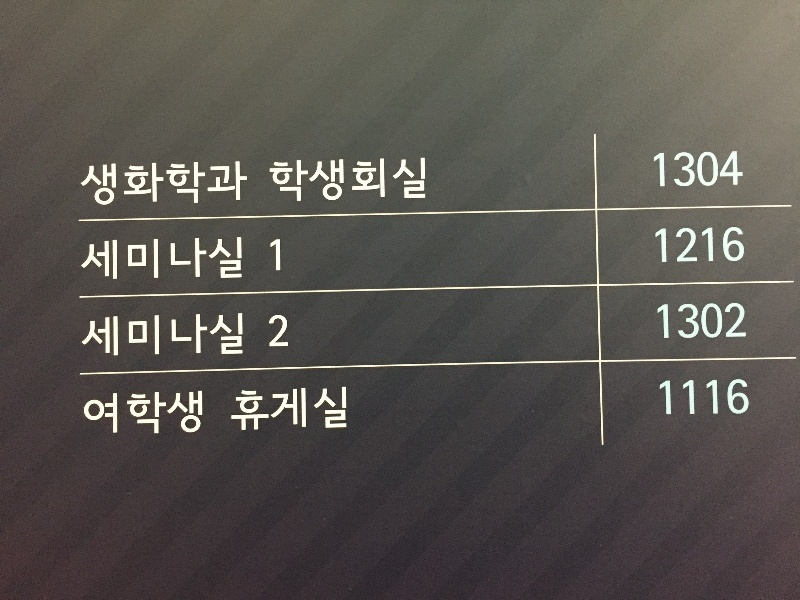text: (97, 159, 112, 207), (113, 159, 128, 207), (129, 159, 144, 207), (145, 159, 160, 207), (161, 159, 176, 207), (177, 159, 192, 207), (193, 159, 208, 207), (209, 159, 224, 207), (225, 159, 240, 207), (273, 157, 288, 205), (289, 157, 304, 205), (305, 157, 320, 205), (321, 157, 336, 205), (337, 157, 352, 205), (353, 157, 368, 205), (369, 157, 384, 205), (385, 157, 400, 205), (401, 157, 416, 205), (97, 235, 112, 282), (113, 235, 128, 282), (129, 235, 144, 282), (145, 235, 160, 282), (161, 235, 176, 282), (177, 235, 192, 282), (193, 235, 208, 282), (209, 235, 224, 282), (225, 235, 240, 282), (241, 385, 256, 432), (257, 385, 272, 432), (273, 385, 288, 432), (289, 385, 304, 432), (305, 385, 320, 432), (321, 385, 336, 432), (97, 312, 112, 358), (113, 312, 128, 358), (129, 312, 144, 358), (145, 312, 160, 358), (161, 312, 176, 358), (177, 312, 192, 358), (193, 312, 208, 358), (209, 312, 224, 358), (225, 312, 240, 358), (97, 390, 112, 436), (113, 390, 128, 436), (129, 390, 144, 436), (145, 390, 160, 436), (161, 390, 176, 436), (177, 390, 192, 436), (657, 378, 672, 418), (673, 378, 688, 418), (689, 378, 704, 418), (705, 378, 720, 418), (721, 378, 736, 418), (657, 302, 672, 341), (673, 302, 688, 341), (689, 302, 704, 341), (705, 302, 720, 341), (721, 302, 736, 341), (657, 151, 672, 189), (673, 151, 688, 189), (689, 151, 704, 189), (705, 151, 720, 189), (721, 151, 736, 189), (657, 227, 672, 265), (673, 227, 688, 265), (689, 227, 704, 265), (705, 227, 720, 265), (721, 227, 736, 265), (273, 314, 289, 349), (737, 378, 751, 418), (84, 390, 96, 436), (85, 159, 96, 207), (337, 385, 348, 432), (193, 390, 204, 436), (417, 157, 427, 205), (87, 235, 96, 282), (87, 312, 96, 358), (737, 302, 747, 341), (241, 159, 249, 207), (232, 385, 240, 432), (737, 227, 746, 265), (273, 237, 282, 274), (737, 151, 745, 189), (266, 157, 272, 205), (266, 314, 272, 349), (267, 237, 272, 274), (652, 151, 656, 189), (241, 235, 244, 282), (241, 312, 244, 358), (653, 227, 656, 265), (655, 302, 656, 341)
